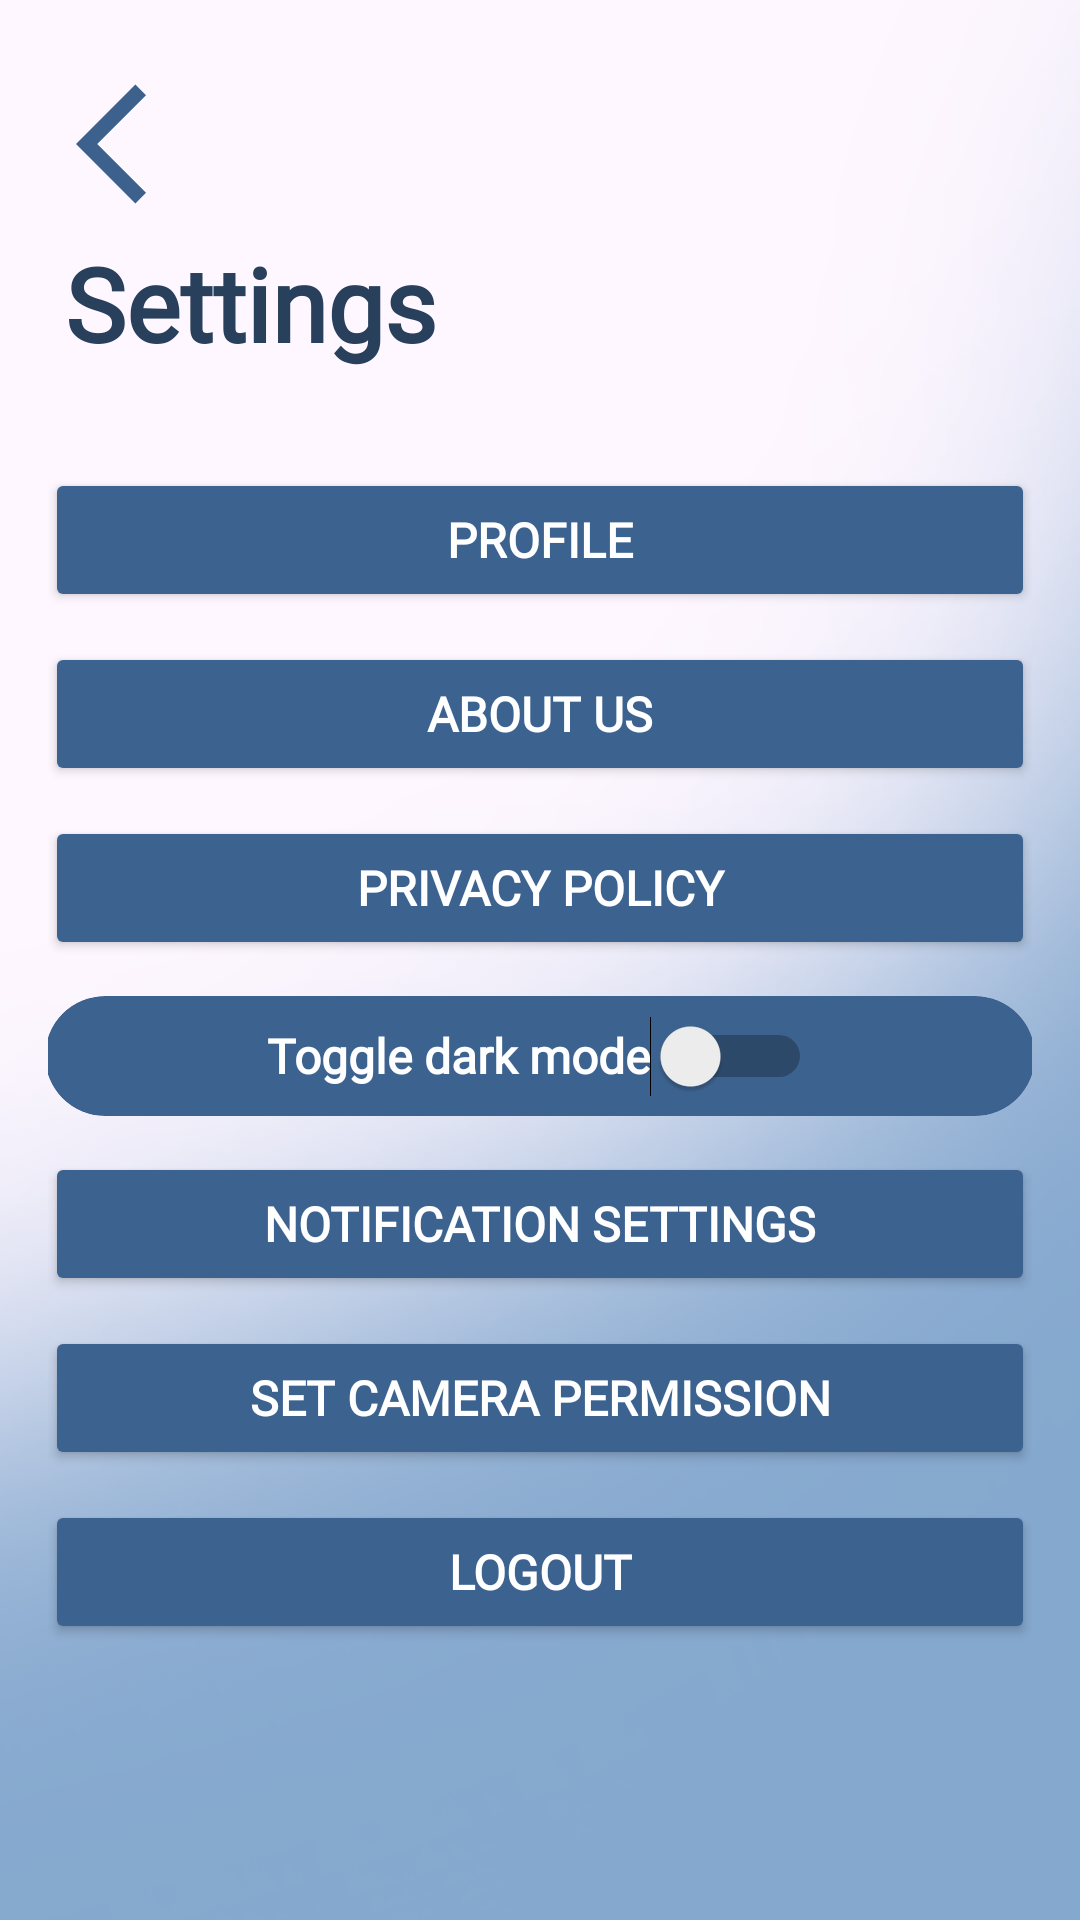

Point at icon controls on the screen. Image size 1080w x 1920h, points as (x=x, y=y).
arrow back: (x=111, y=144)
